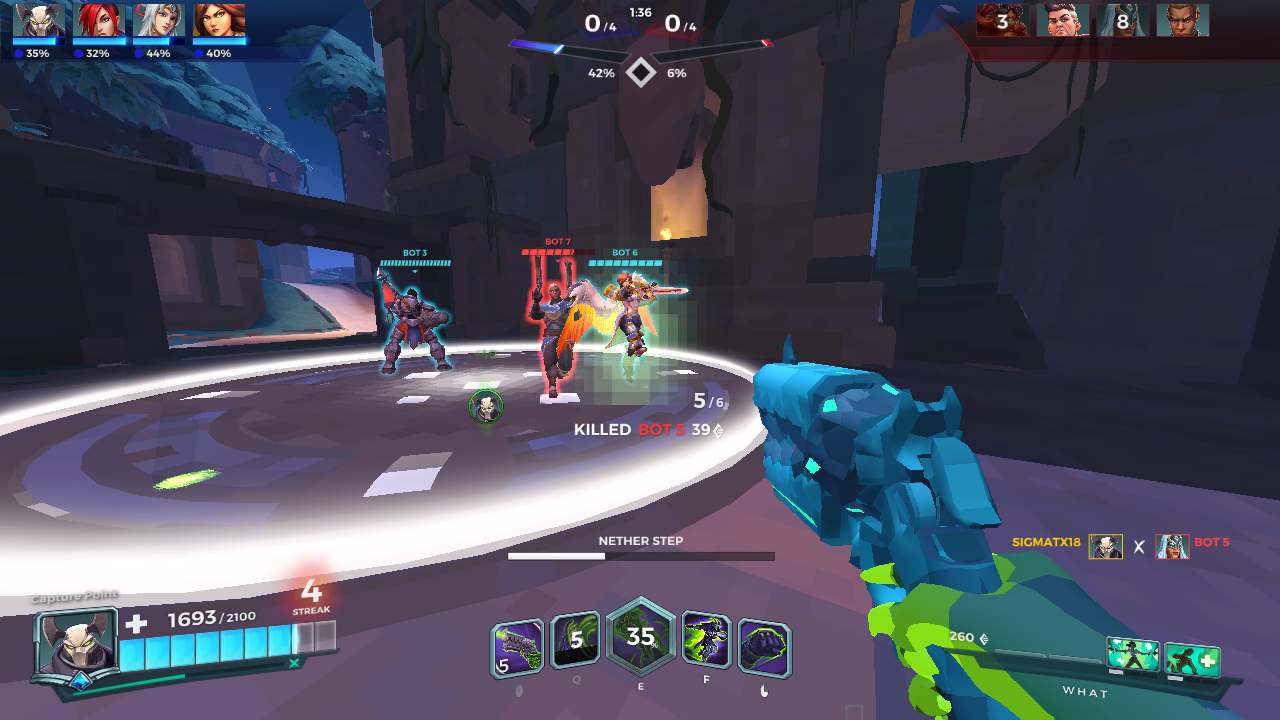model: (527, 262, 581, 403)
